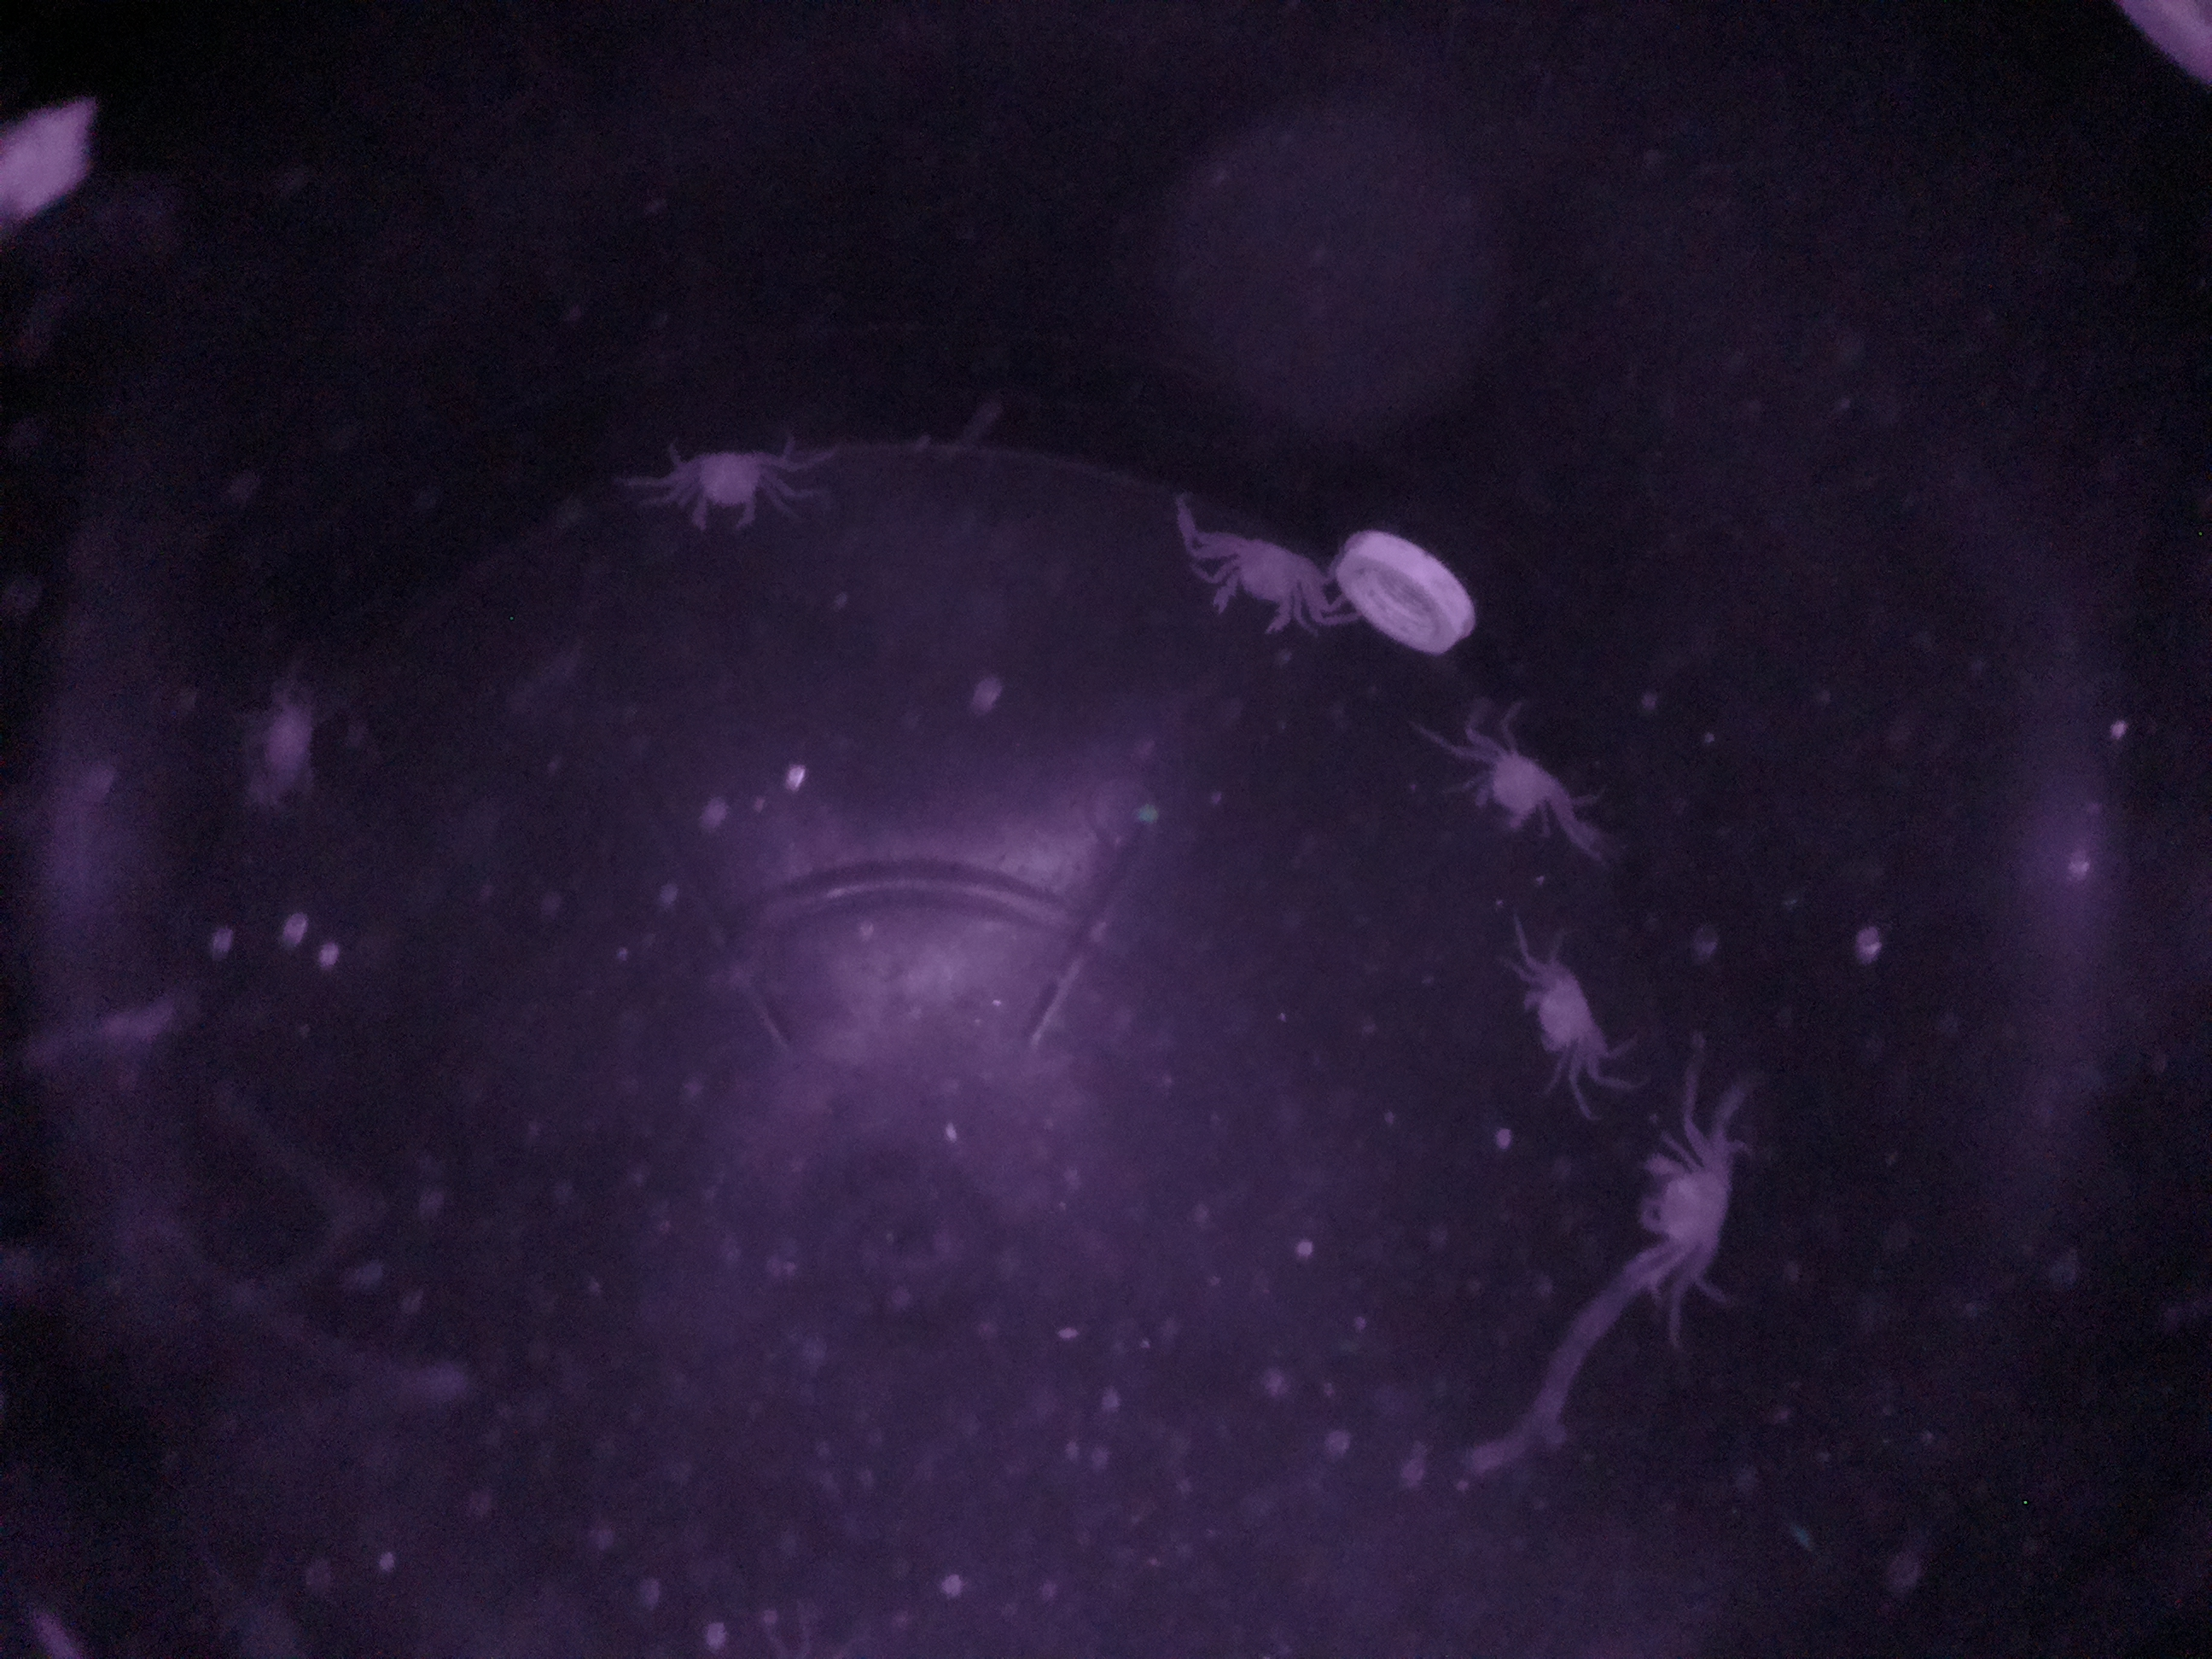Crab: (1616, 1127, 1761, 1277), (1188, 514, 1322, 652), (667, 430, 798, 561), (1454, 721, 1587, 847), (1501, 945, 1618, 1079)
